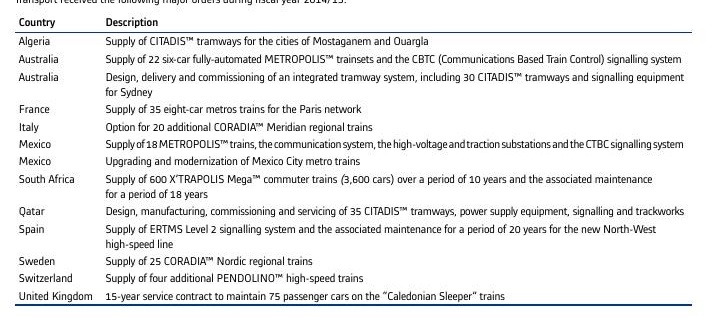table: (0, 0, 713, 321)
